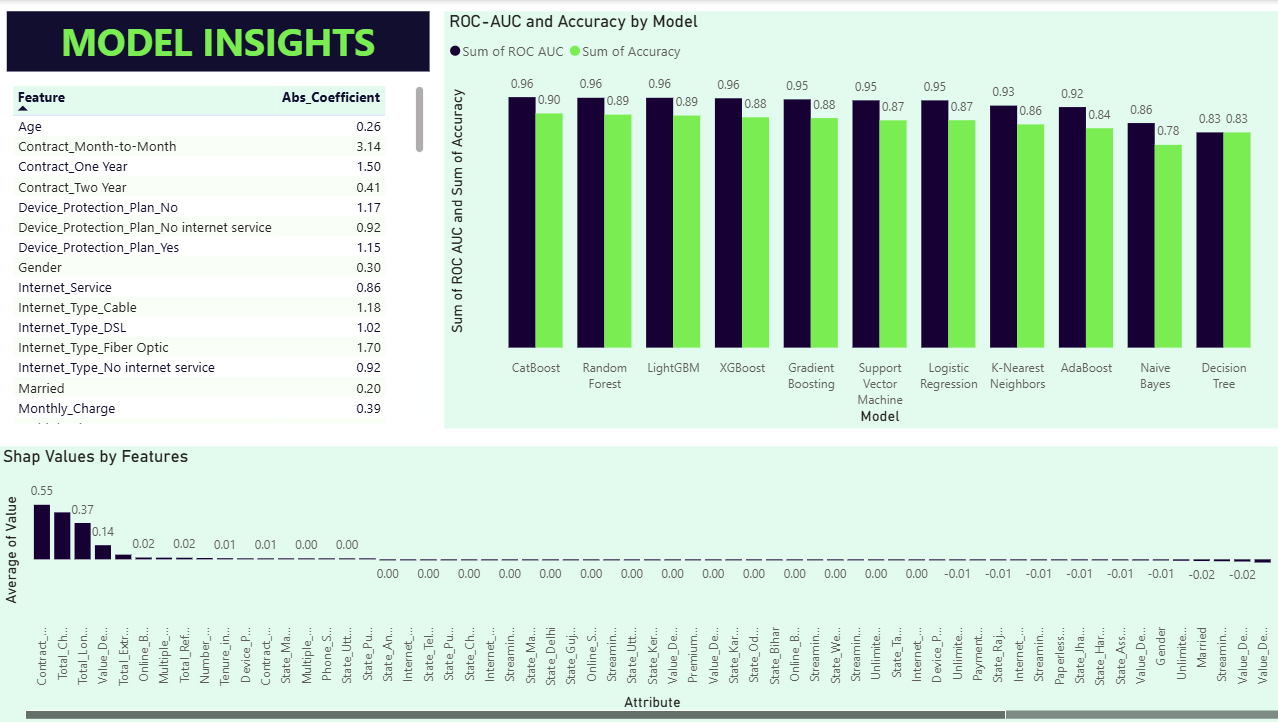

The page's visual inventory and layout, read from the dashboard file:
{"tool":"powerbi","page":{"name":"Model Insights","canvas":[1280,720],"ordinal":2},"visuals":[{"type":"textbox","box":[8.7,11.2,420.5,59.7],"z":0},{"type":"clusteredColumnChart","title":"ROC-AUC and Accuracy by Model","fields":{"Category":["model_comparison_metrics (1).Model"],"Y":["Sum(model_comparison_metrics (1).ROC AUC)","Sum(model_comparison_metrics (1).Accuracy)"]},"box":[444.1,11.2,835.9,415.5],"z":1},{"type":"tableEx","fields":{"Values":["logreg_feature_weights (1).Feature","logreg_feature_weights (1).Abs_Coefficient"]},"box":[8.7,80.9,420.5,345.8],"z":2},{"type":"clusteredColumnChart","title":"Shap Values by Features","fields":{"Category":["shap_catboost (1).Attribute"],"Y":["Avg(shap_catboost (1).Value)"]},"box":[0,444.1,1280,276.2],"z":3}]}

Visuals, with their boxes in screenshot pixels (x1, y1, x2, y2), scaled from the page's 1280x720 canvas onto the 1278x722 screenshot:
textbox: (9,11,429,71)
"ROC-AUC and Accuracy by Model" clusteredColumnChart: (443,11,1277,428)
tableEx - logreg_feature_weights (1).Feature x logreg_feature_weights (1).Abs_Coefficient: (9,81,429,428)
"Shap Values by Features" clusteredColumnChart: (0,445,1277,721)
